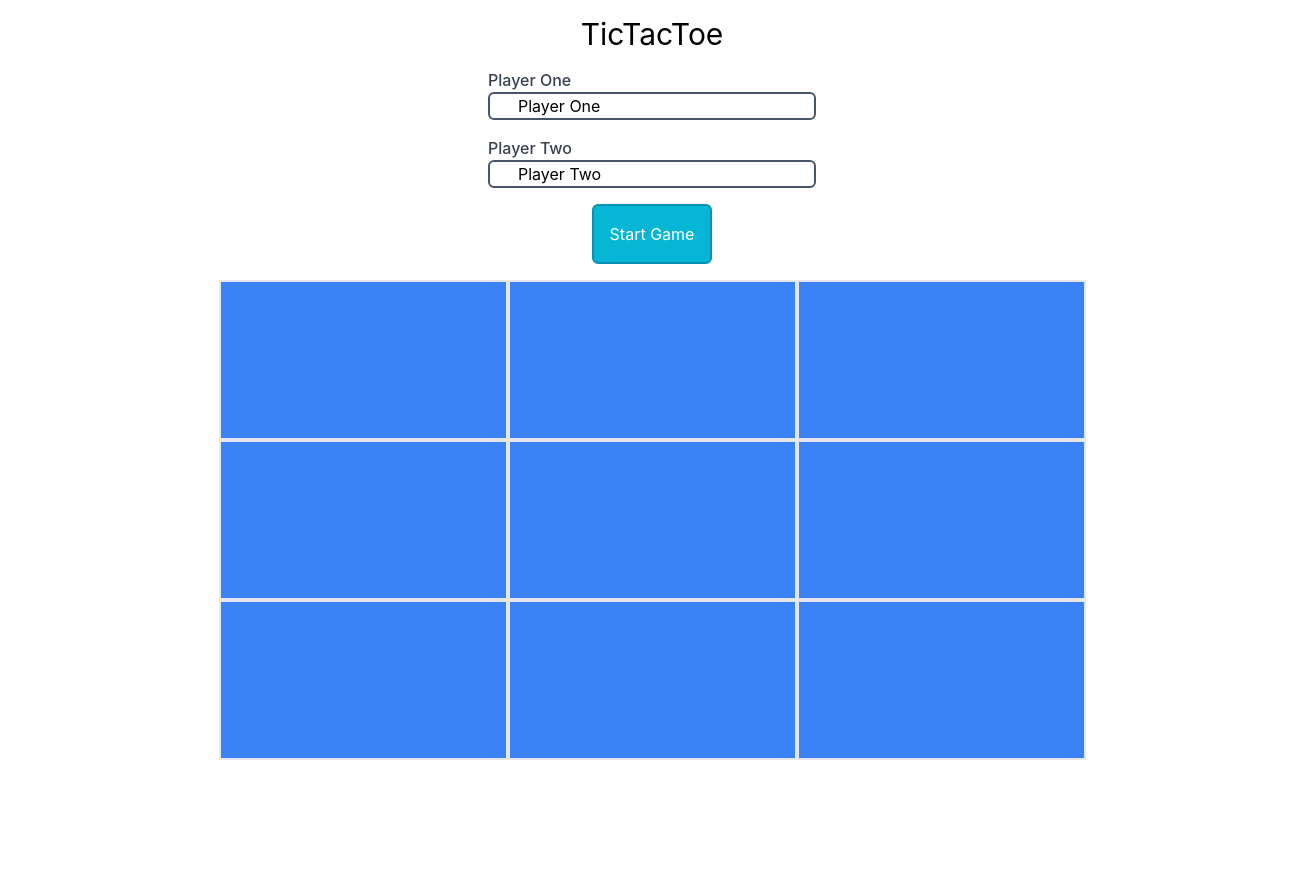
Game Component › Display's a winning status that favours player one if right combination is played and player one wins first row
Click the button "Start Game": [652, 234] box 592,204 -> 712,264
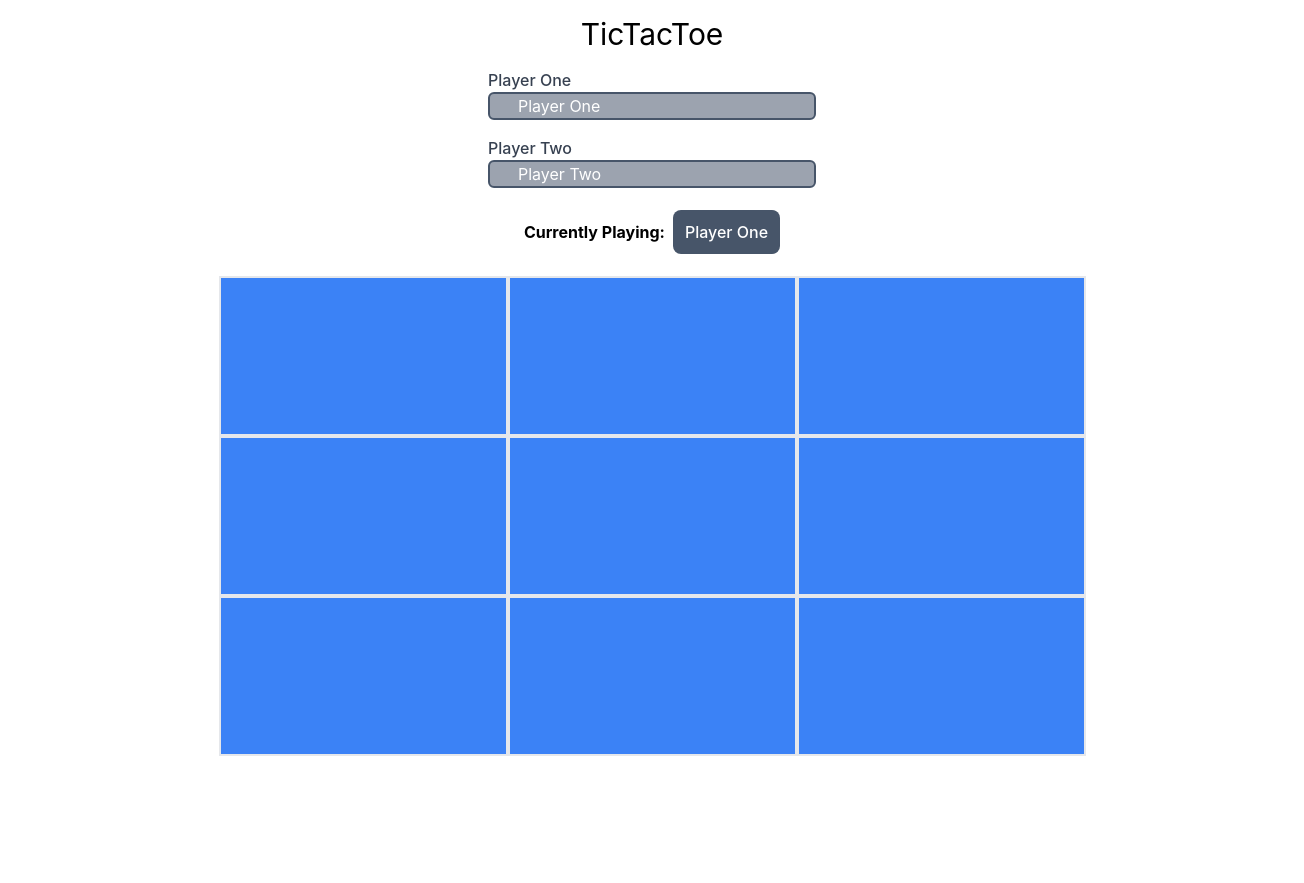
Click the 1st button named "Unplayed Tile": [363, 356] box 218,276 -> 508,436
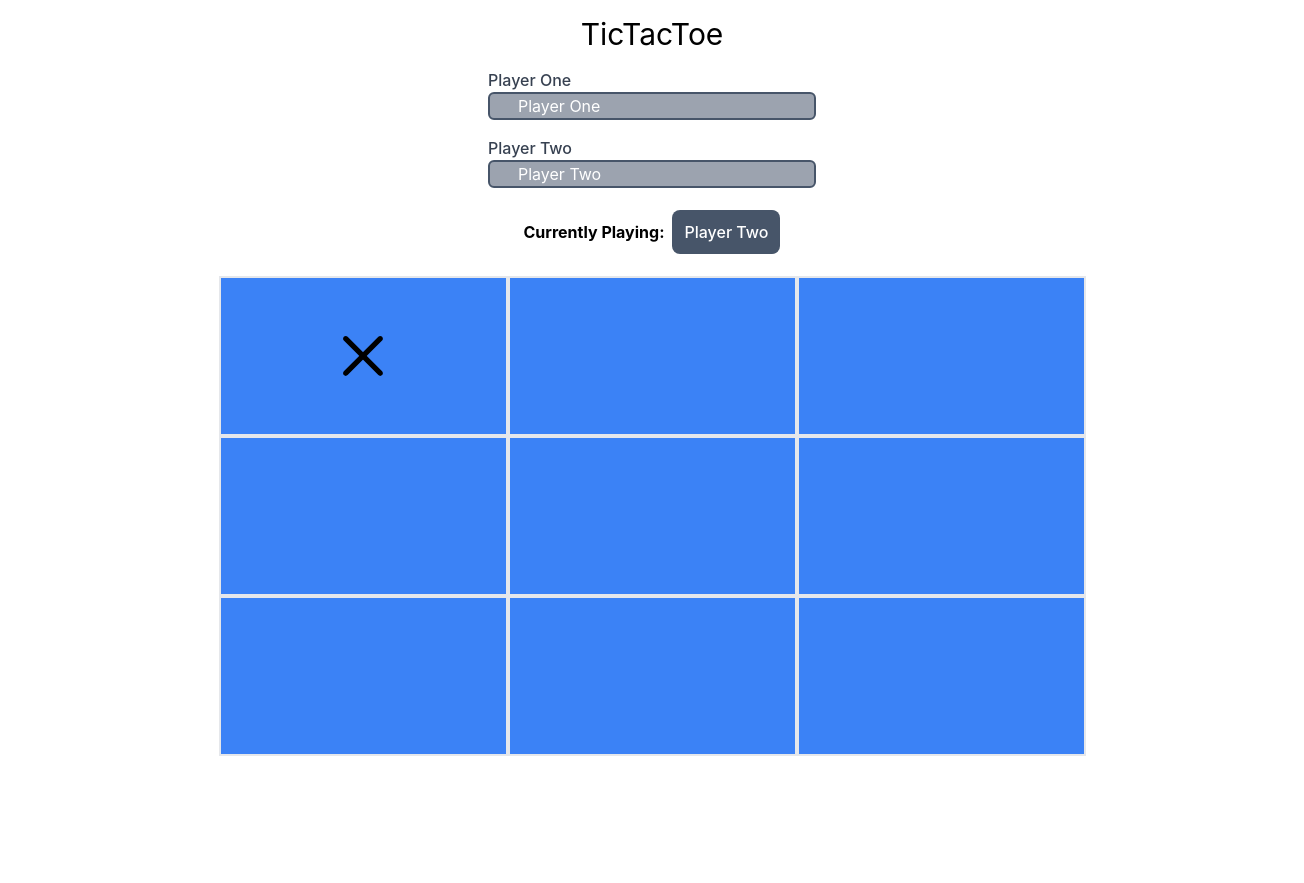
Click the 3rd button named "Unplayed Tile": [363, 516] box 218,436 -> 508,596
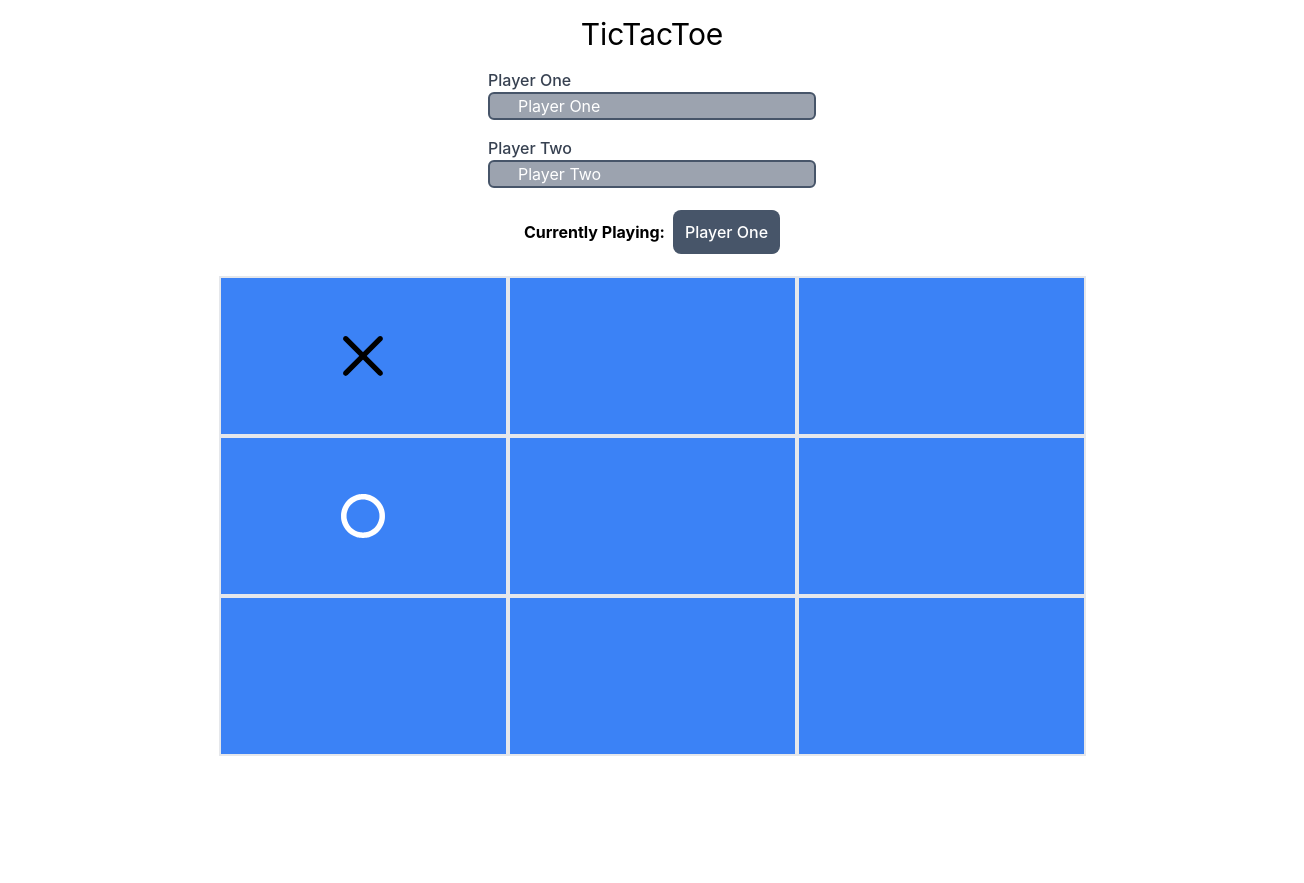
Click the 1st button named "Unplayed Tile": [652, 356] box 508,276 -> 796,436
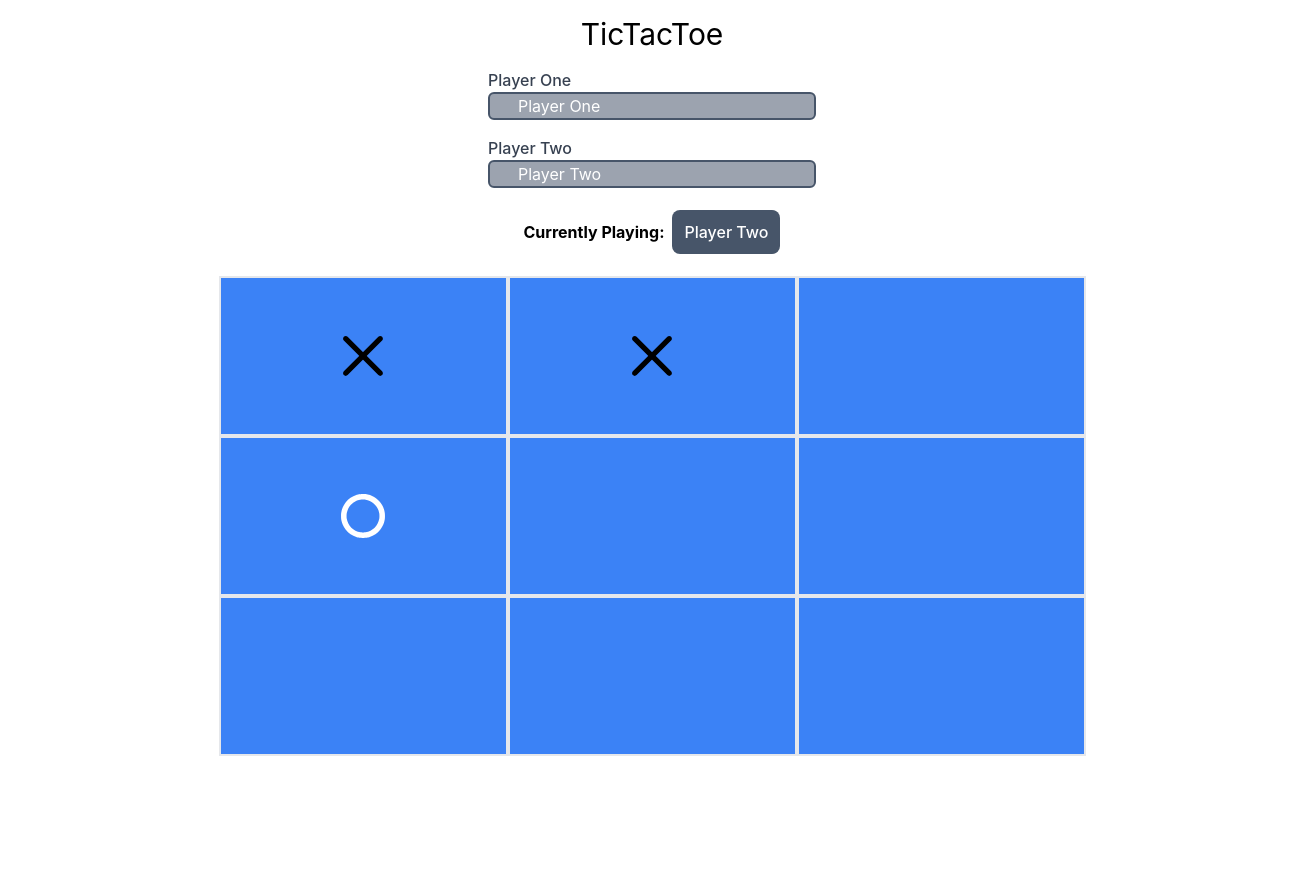
Click the 2nd button named "Unplayed Tile": [652, 516] box 508,436 -> 796,596
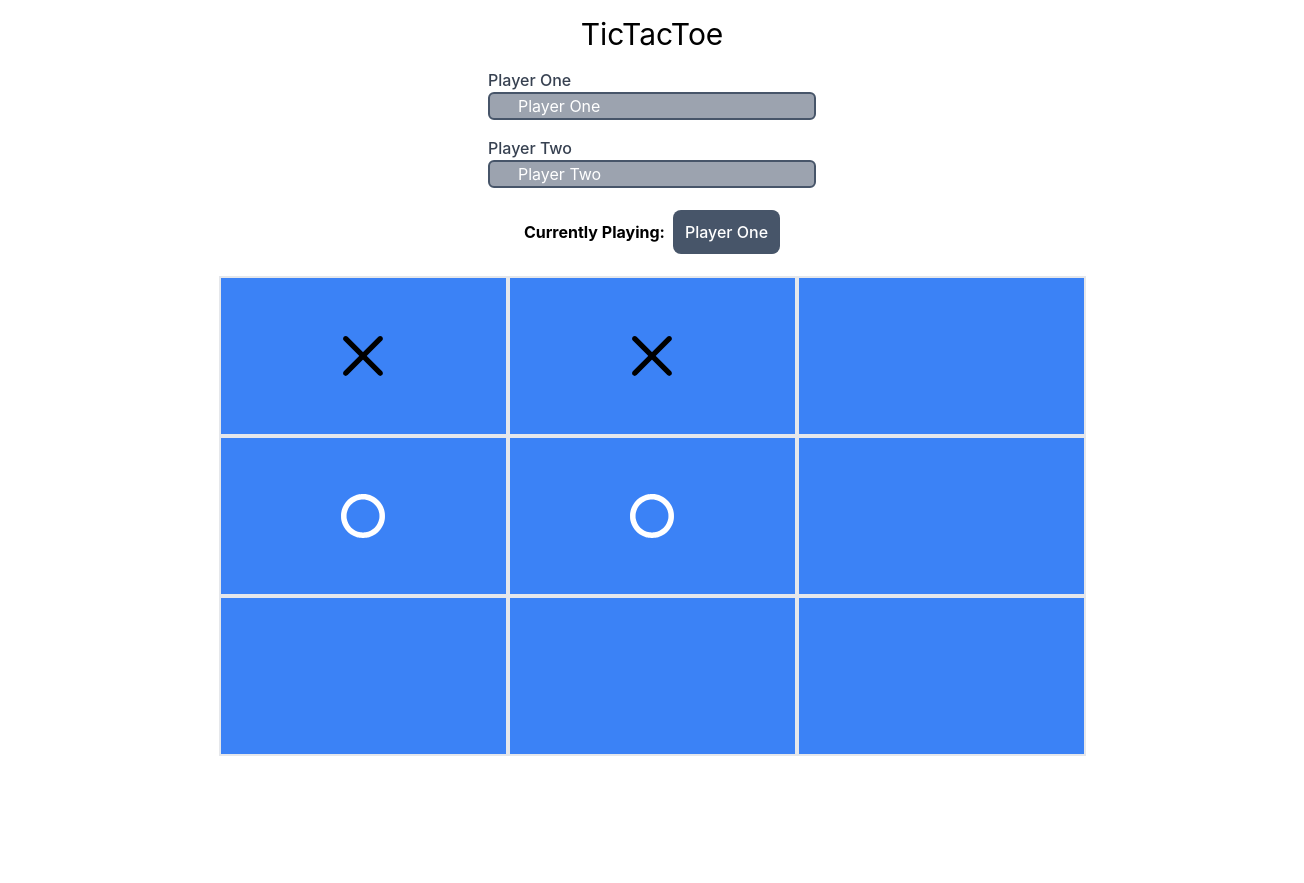
Click the 1st button named "Unplayed Tile": [941, 356] box 796,276 -> 1086,436
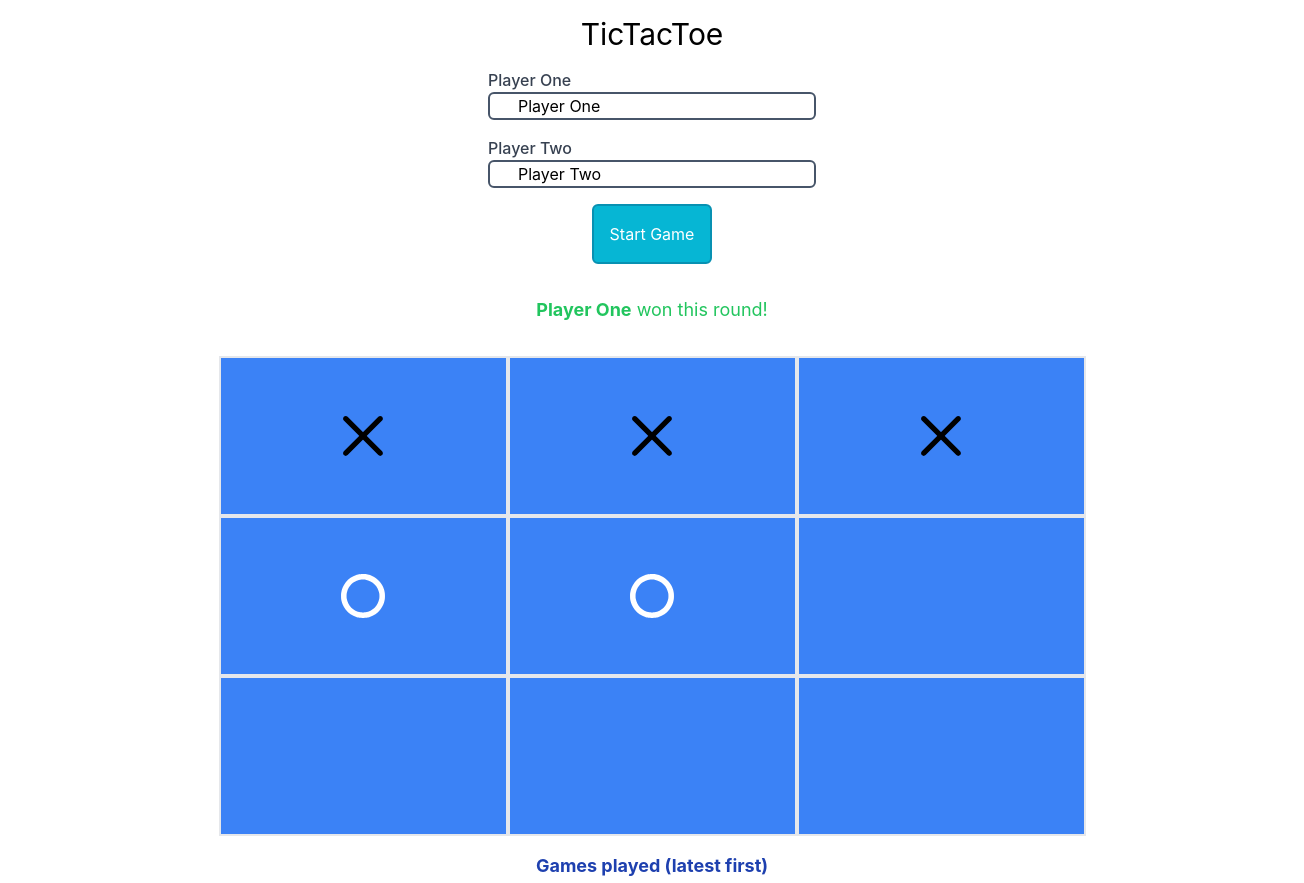
Expected: the heading "Player One won this round!" is shown, 536,296 -> 768,324
